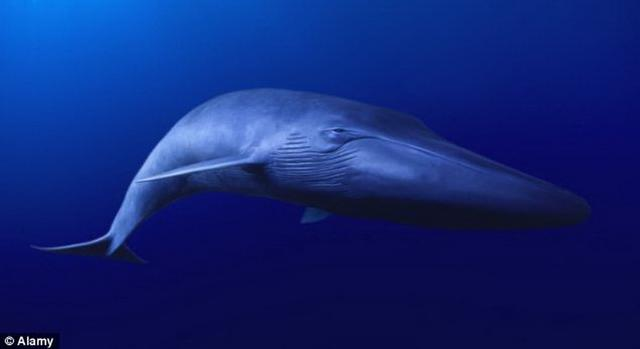fish: (28, 85, 590, 273)
